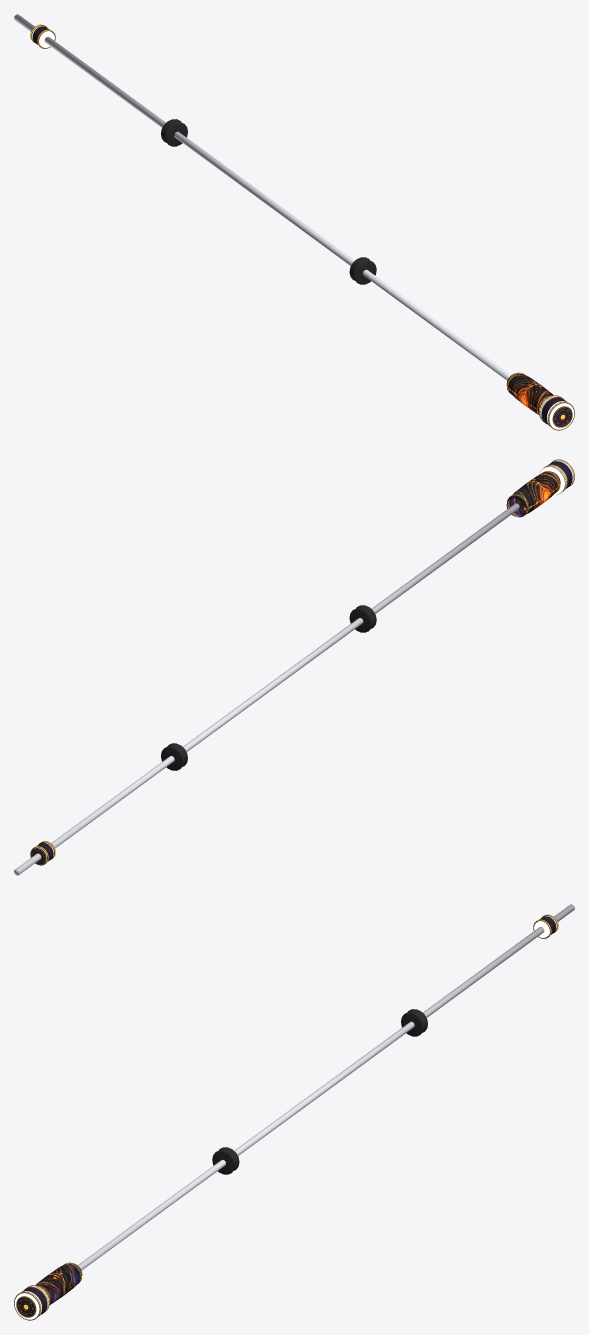
File: fuzeball_rod_1man.glb
3 views of the same model, one above another, from view 1: azimuth 30°, elevation 25°; view 2: azimuth 150°, elevation 25°; view 3: azimuth 330°, elevation 25° (orthographic).
Visible parts, largest first — view 1: rod1_bar.002, rod1_handle_relic; view 2: rod1_bar.002, rod1_handle_relic; view 3: rod1_bar.002, rod1_handle_relic.
Part boxes in pixels (<box>): rod1_bar.002: <box>14,14,511,380</box>; rod1_handle_relic: <box>506,373,553,414</box>; rod1_bar.002: <box>14,503,519,875</box>; rod1_handle_relic: <box>506,472,560,517</box>; rod1_bar.002: <box>77,904,574,1270</box>; rod1_handle_relic: <box>35,1263,82,1304</box>.
Bounding box in the file's own units: 3.49 × 3.49 × 125.
Materials: 7 (1 with a texture image).
